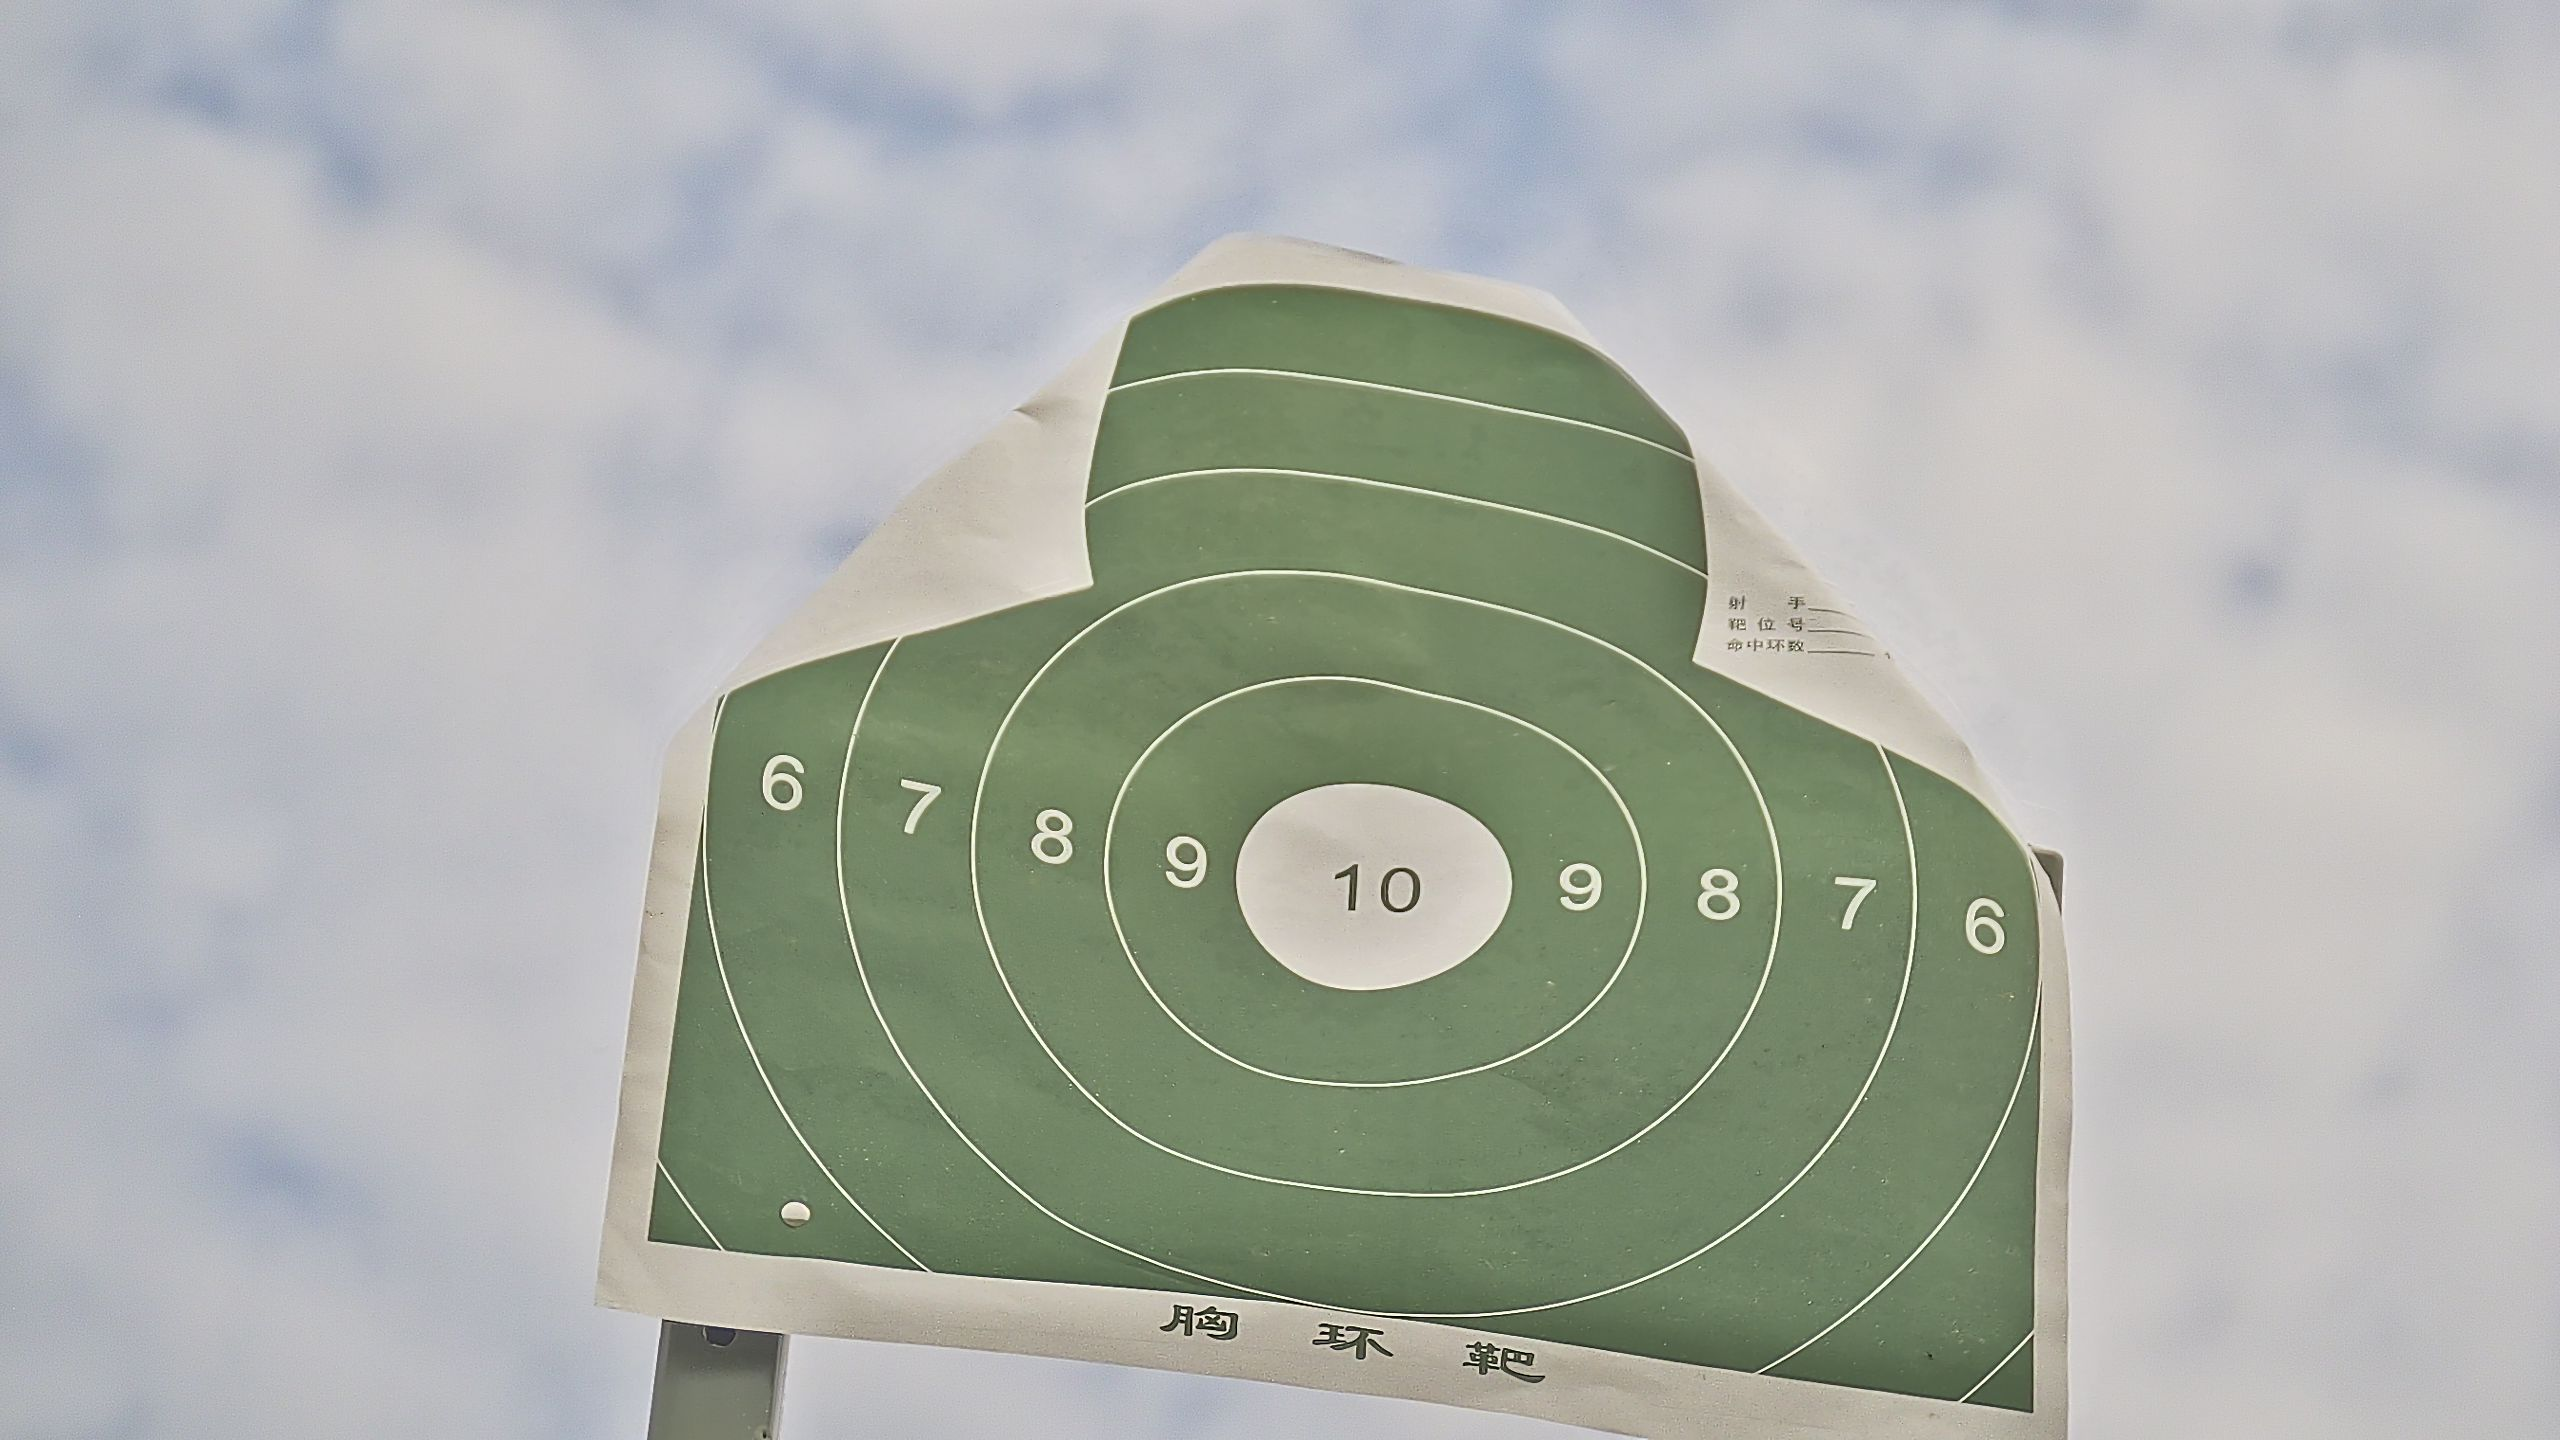kernel: (1364, 884, 1373, 893)
target: (644, 280, 2040, 1410)
ten: (1233, 784, 1512, 995)
